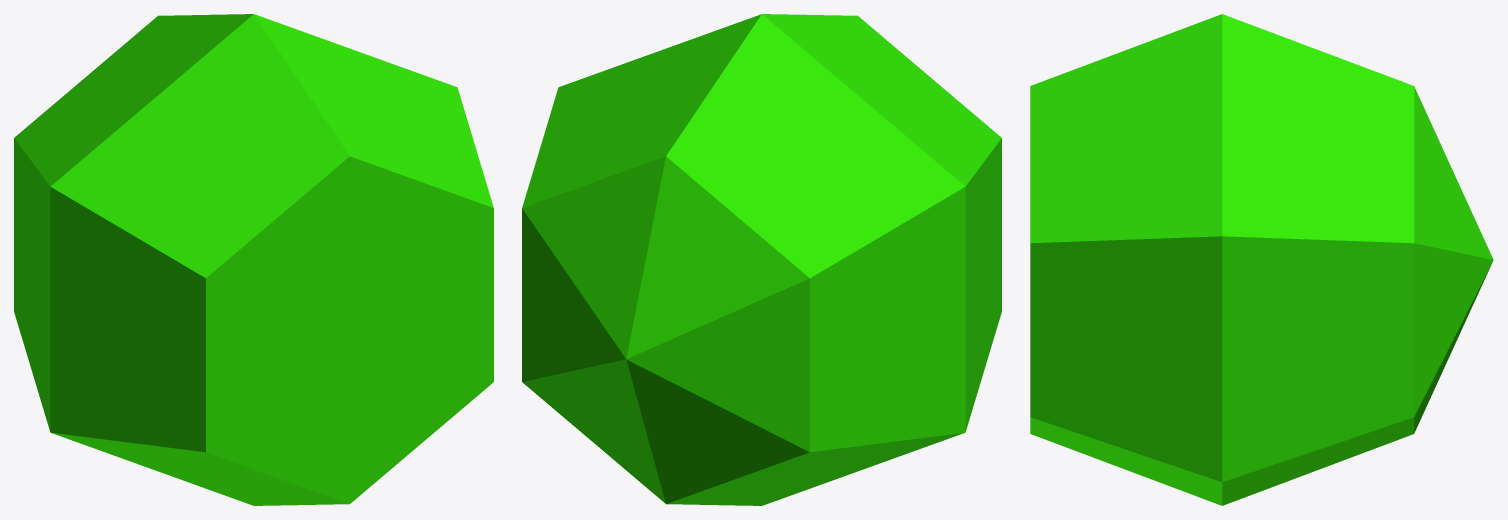
Rendered from tree_top.dae.
3 renders of one model, left to right at view 1: azimuth 30°, elevation 25°; view 2: azimuth 150°, elevation 25°; view 3: azimuth 270°, elevation 25°, orthographic.
Parts seen in each view (by area): view 1: Sphere; view 2: Sphere; view 3: Sphere.
Boxes of the visible parts, bbox=[...] form: Sphere: bbox=[14, 14, 493, 505]; Sphere: bbox=[522, 14, 1001, 505]; Sphere: bbox=[1030, 14, 1493, 505].
Size of the model in its own units: 7.79 by 7.68 by 9.
